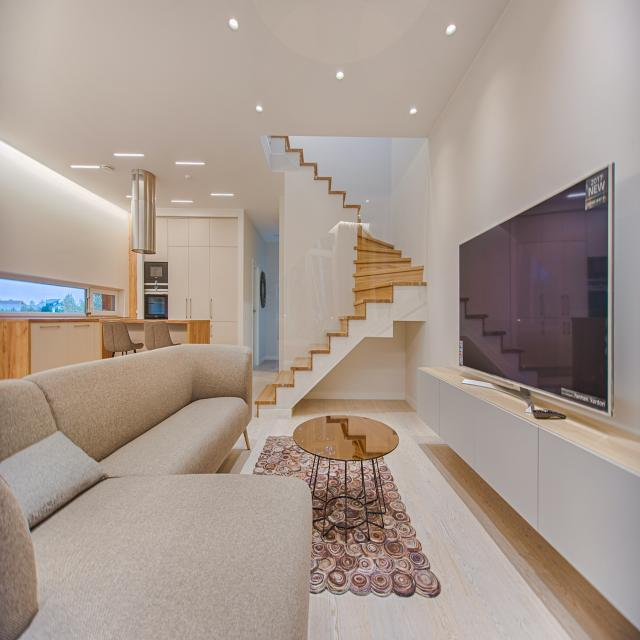Staircase: (279, 130, 415, 398)
a sofa: (2, 399, 306, 640), (12, 339, 303, 474)
chair: (131, 318, 189, 371), (98, 312, 136, 374)
table: (79, 306, 233, 365), (291, 415, 408, 489)
television: (454, 173, 616, 412)
